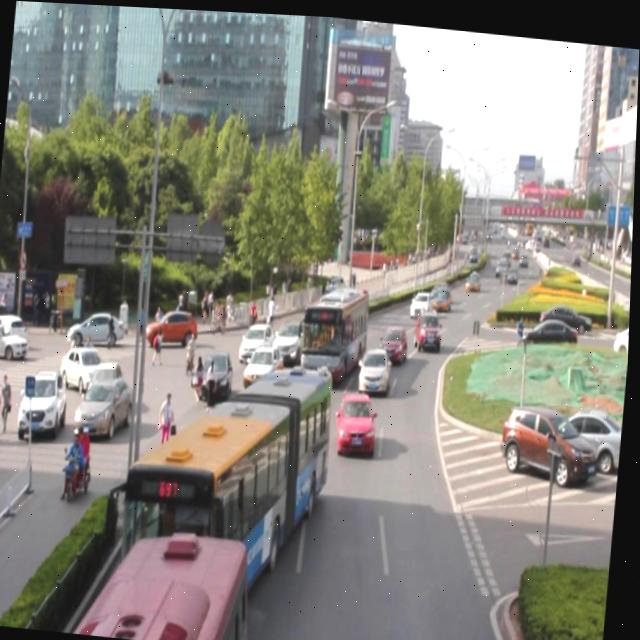car: (239, 373, 290, 440), (337, 384, 380, 452), (199, 343, 238, 402), (244, 341, 287, 388), (241, 316, 278, 367), (274, 314, 311, 361), (359, 343, 393, 391), (414, 301, 445, 348), (381, 319, 409, 358), (410, 283, 436, 317), (433, 282, 454, 311)
van: (125, 347, 337, 600), (92, 527, 253, 640), (305, 278, 371, 371)
